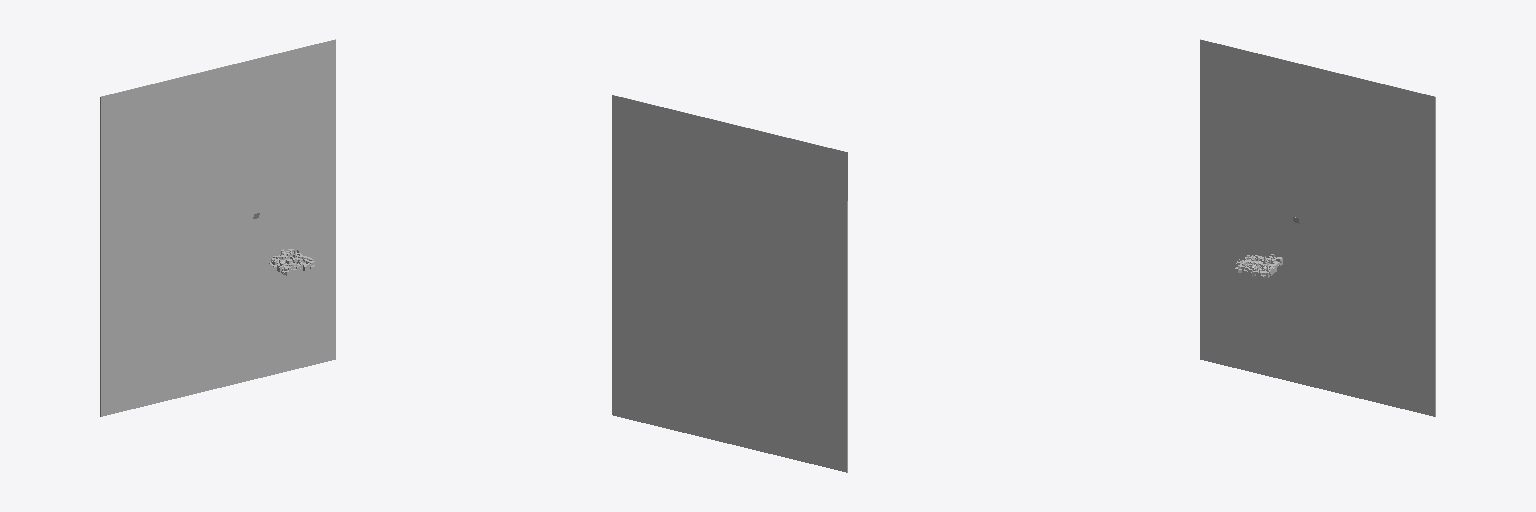
The model's file is Industry.obj.
3 views of the same model, side by side, from view 1: azimuth 30°, elevation 25°; view 2: azimuth 150°, elevation 25°; view 3: azimuth 330°, elevation 25° (orthographic).
Bounding box in the file's own units: 5689 × 7405 × 3200.